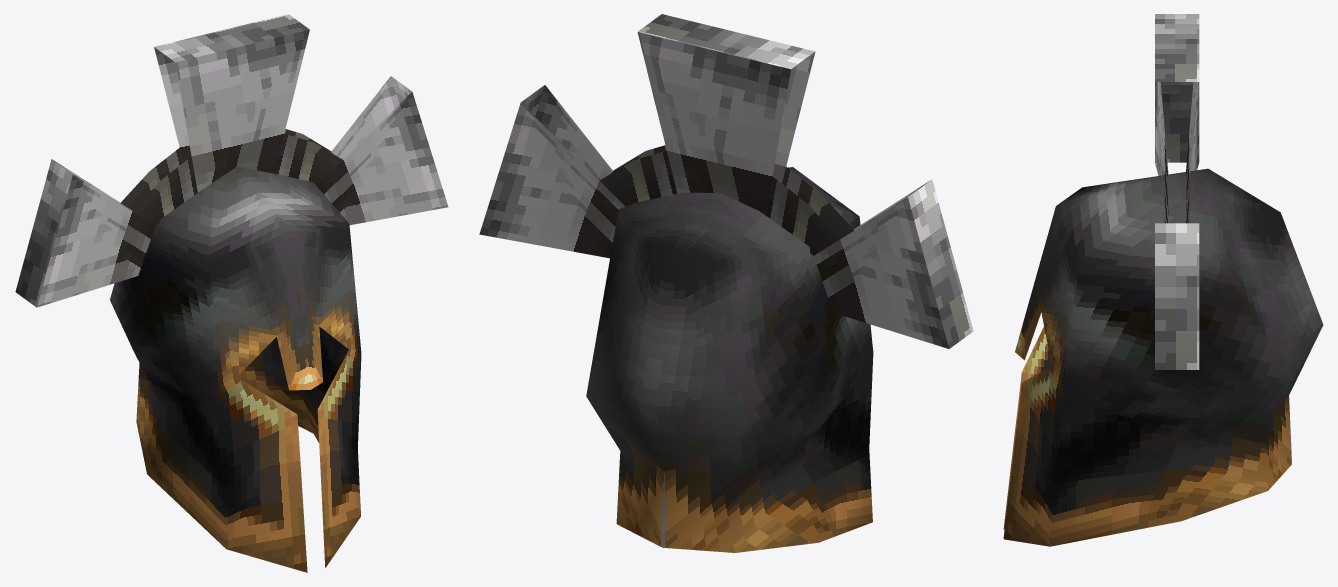
Rendered from hele_helmet_v.dae.
3 renders of one model, left to right at view 1: azimuth 30°, elevation 25°; view 2: azimuth 150°, elevation 25°; view 3: azimuth 270°, elevation 25°, orthographic. The views are drawn at different scales.
Parts seen in each view (by area): view 1: default; view 2: default; view 3: default.
Part boxes in pixels (box(x1,y1,x2,y2)): default: box(15, 14, 448, 572); default: box(479, 14, 973, 552); default: box(1003, 14, 1323, 546).
Size of the model in its own units: 0.9361 by 0.607 by 1.02.
